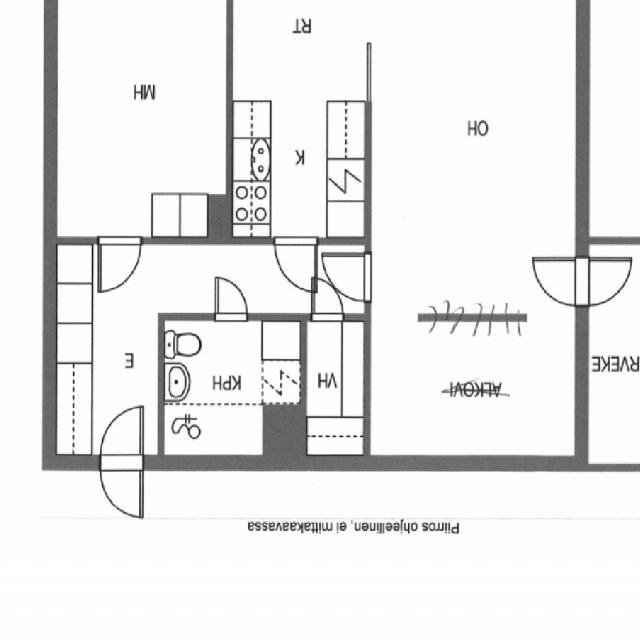door: (533, 258, 590, 306), (576, 258, 632, 306), (101, 455, 143, 518), (101, 408, 143, 470), (98, 238, 141, 292), (274, 238, 316, 292), (323, 254, 371, 301), (216, 278, 247, 322), (312, 279, 342, 321)
